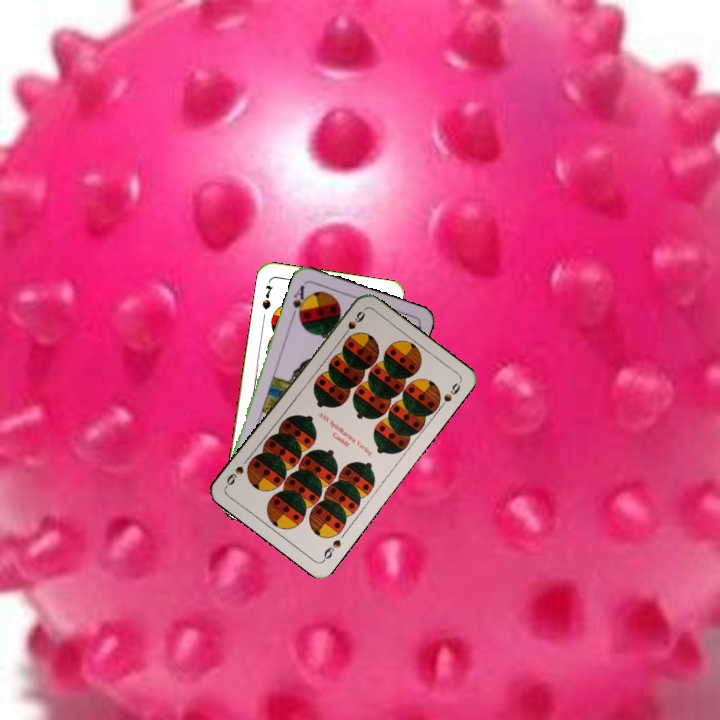S7: (258, 281, 275, 312)
S9: (338, 307, 368, 341), (319, 536, 344, 564)
SA: (288, 281, 310, 322)
